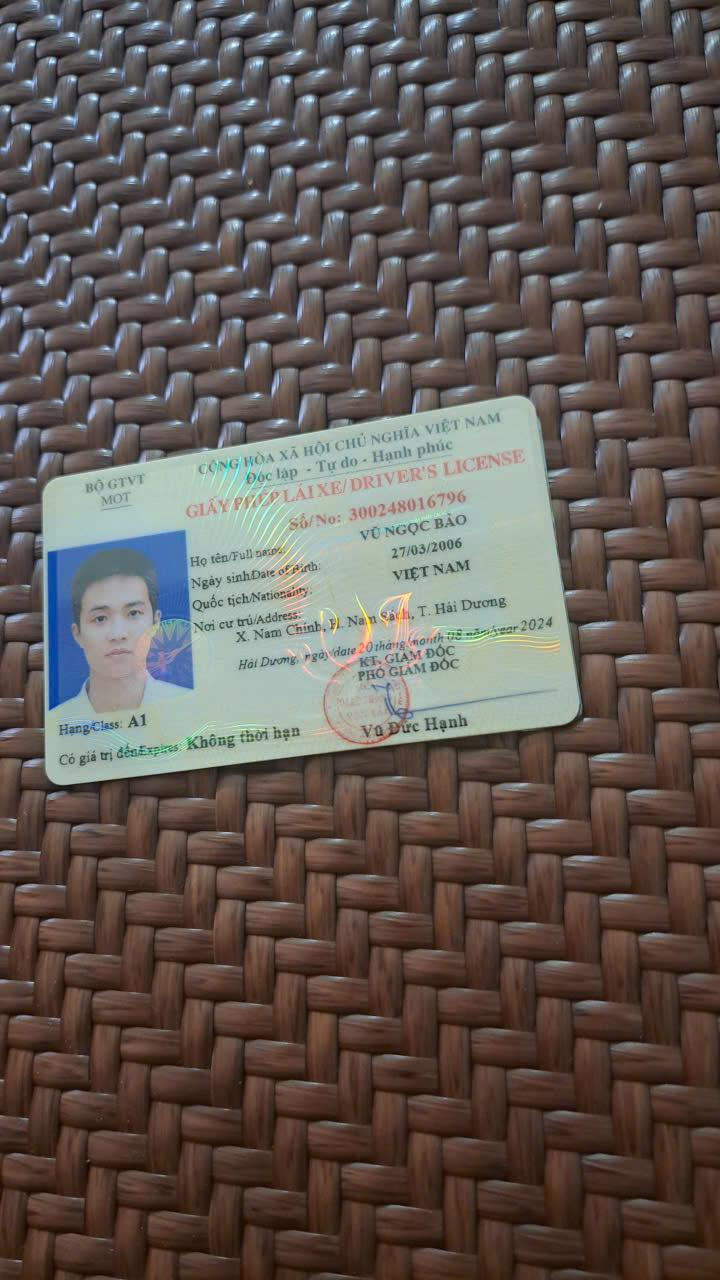gplx: (32, 393, 590, 805)
